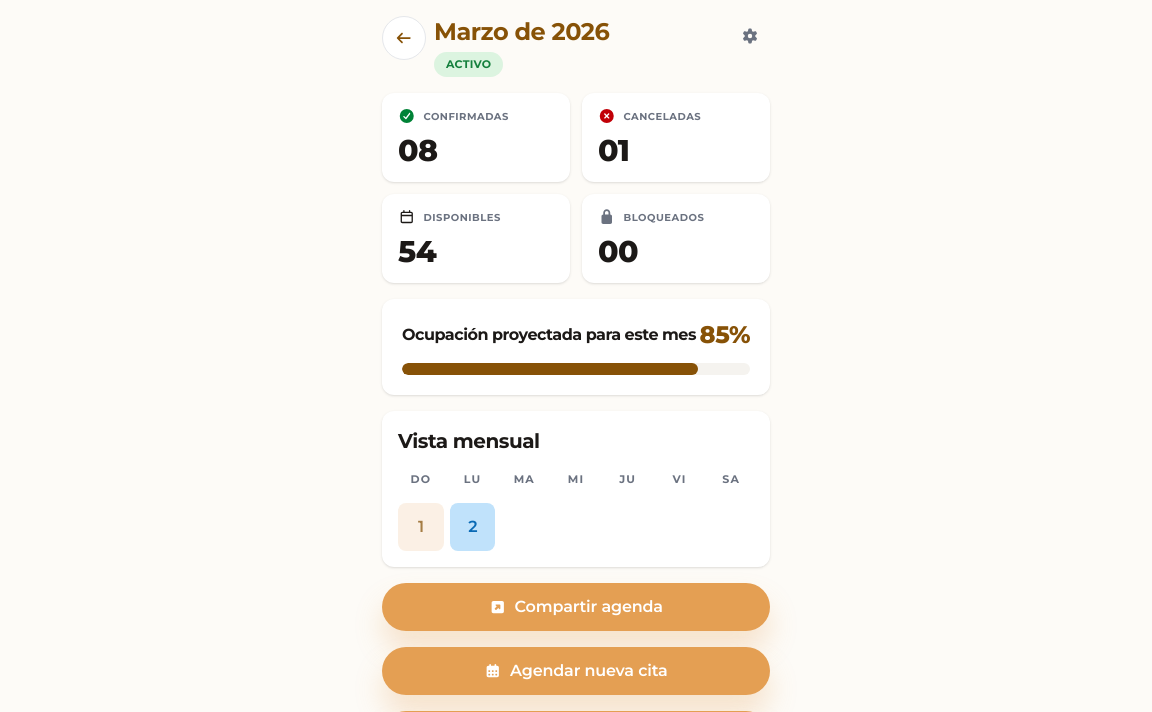
MonthDetailView › shows contextual helper text in slot mode modal based on selected option
Click the button named "Modalidad". click: (750, 36)
box: [730,16,770,56]
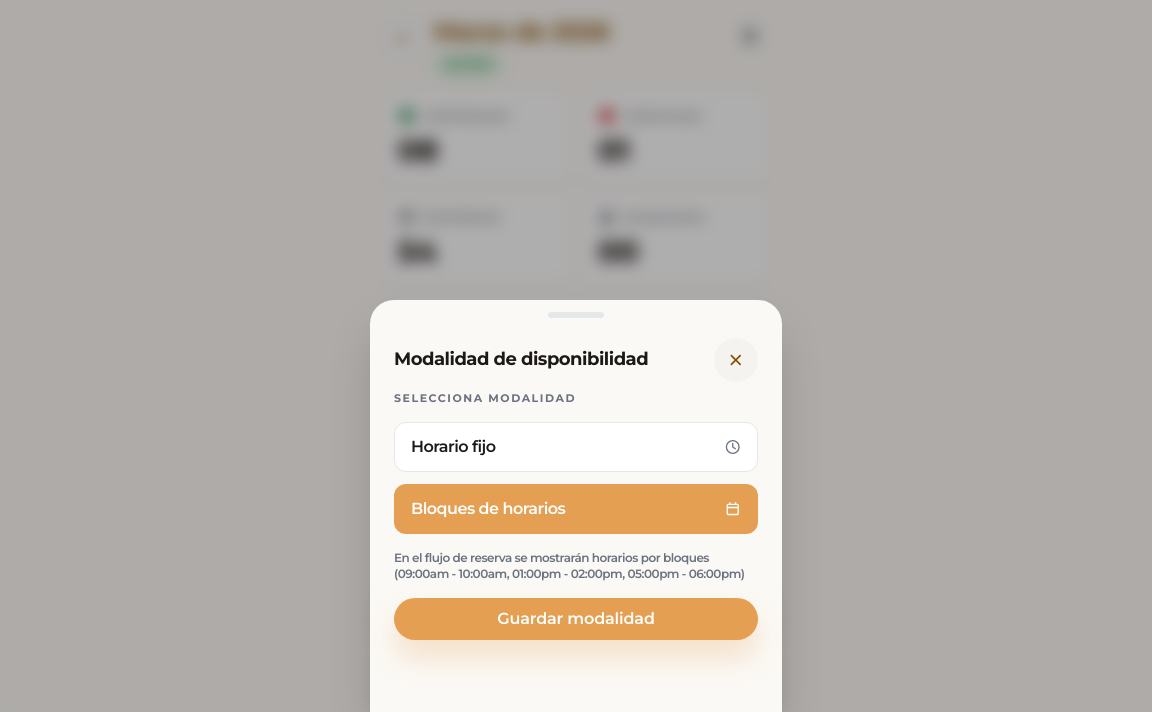
Now the text "09:00am - 10:00am" is shown, box [394,550,744,581]
Click the button "Horario fijo". click: (453, 446)
box: [394,422,758,472]
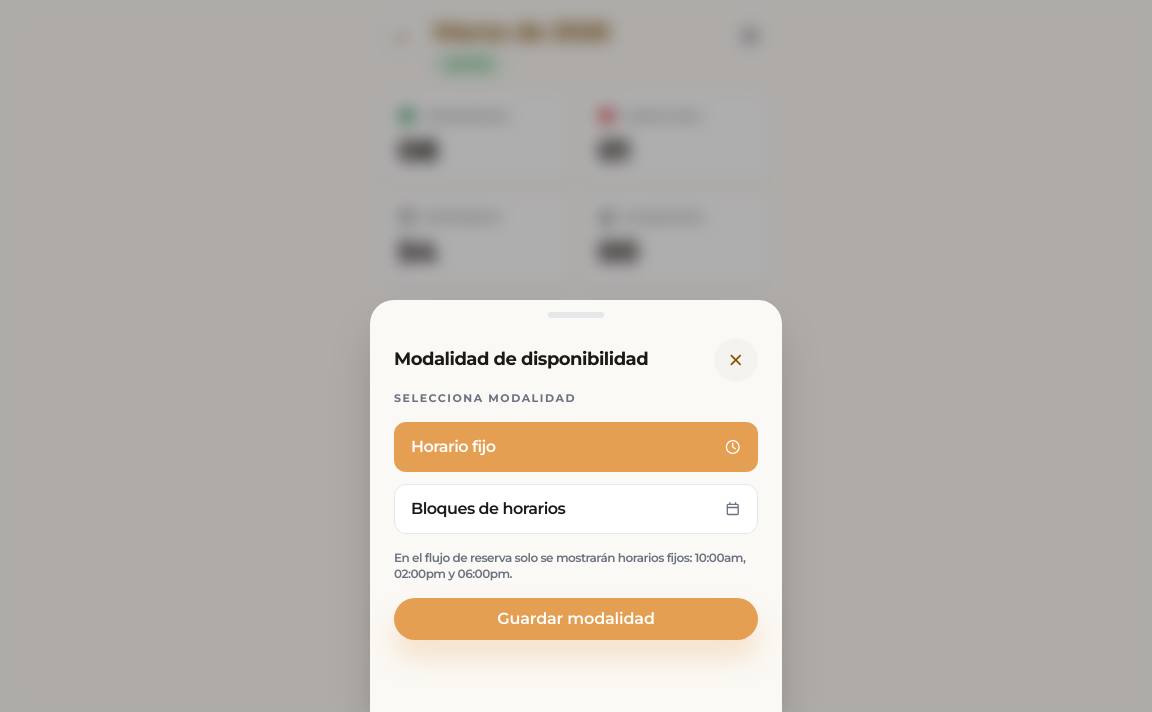
Now the text "10:00am, 02:00pm y 06:00pm" is shown, box [394,550,745,581]
